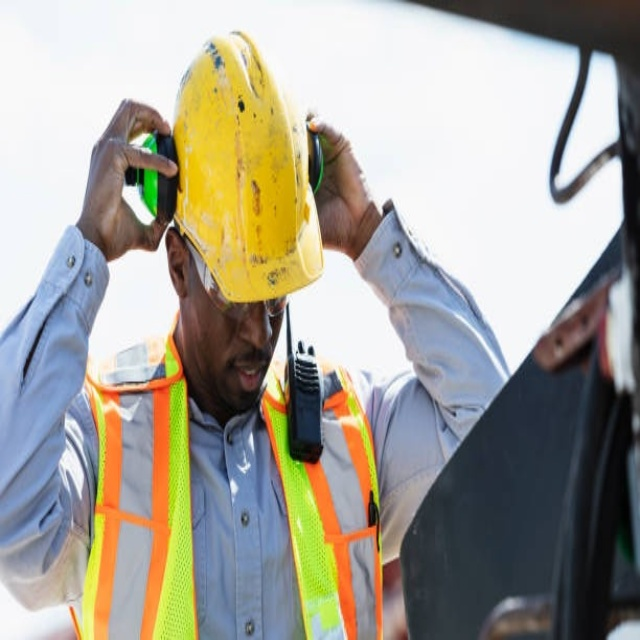Gafas: (188, 243, 299, 316)
Sin_guantes: (80, 100, 180, 265), (303, 116, 380, 258)
Sin_mascara: (227, 353, 266, 406)
